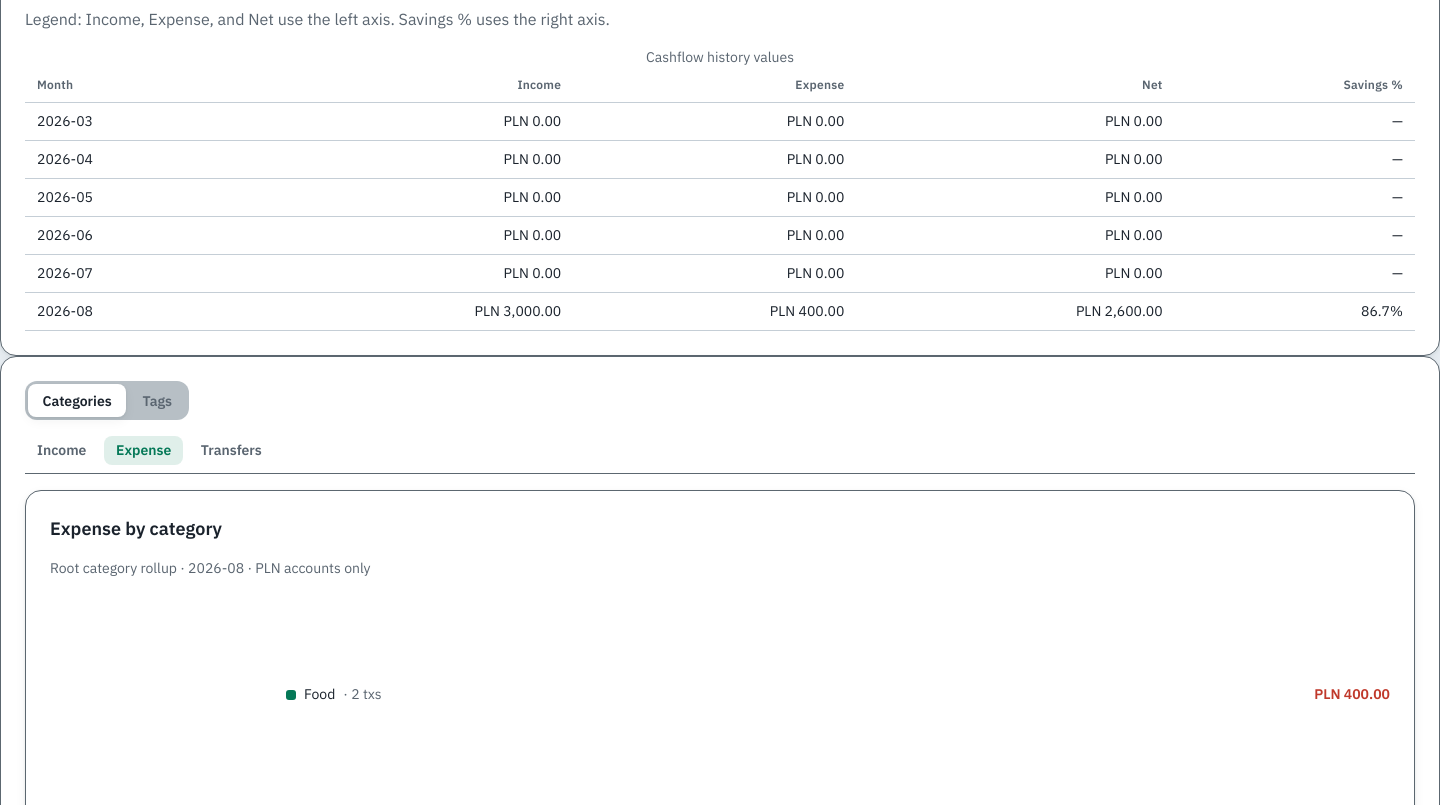
Test: StatisticsPage period and analysis views › switches to Tags view and shows tag totals
(page scrolled)
Click the tab "Tags" at [157, 400], box x1=128 y1=384 x2=186 y2=417
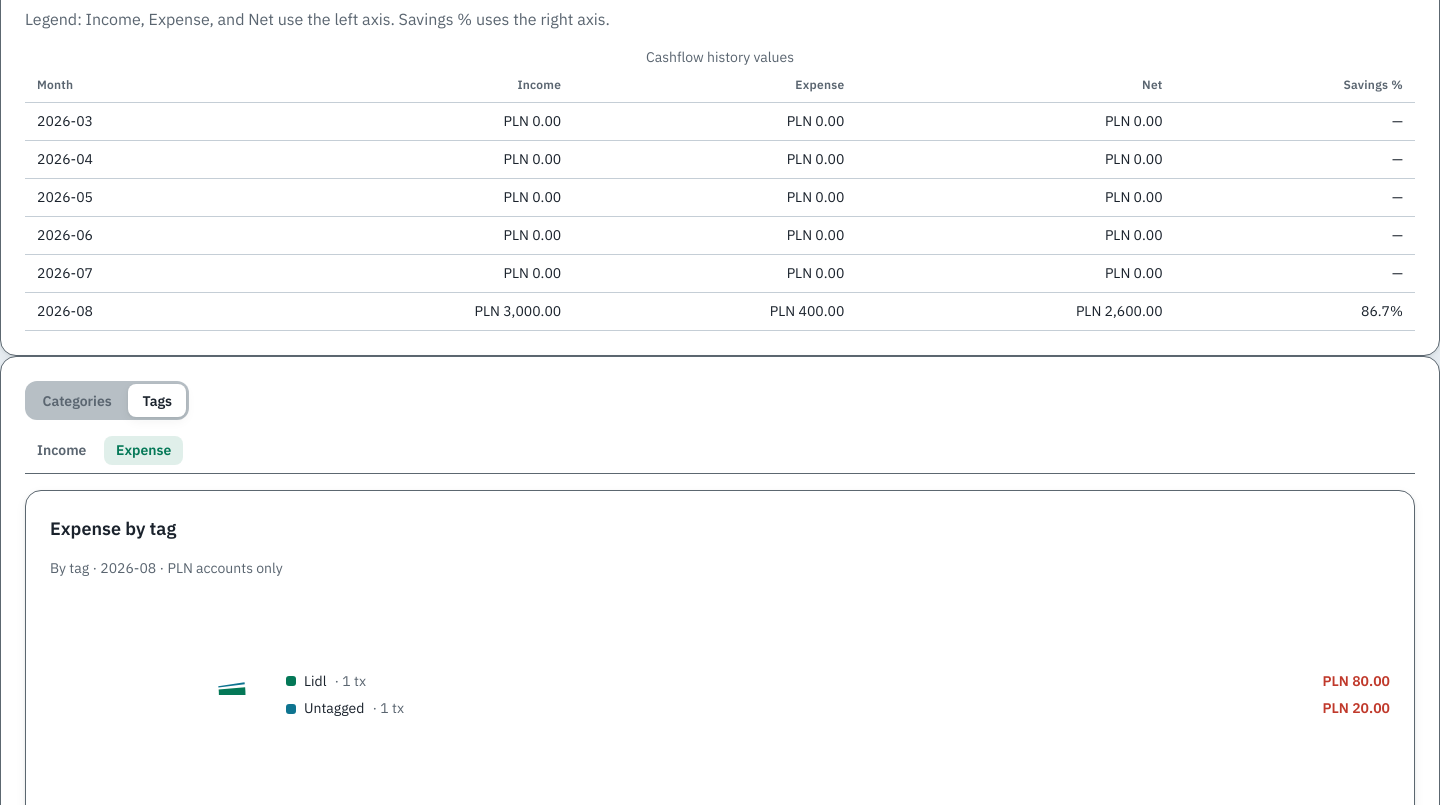
Expected: the text "Lidl" is shown, x1=304 y1=672 x2=326 y2=690
Expected: the text "Untagged" is shown, x1=304 y1=699 x2=364 y2=717
